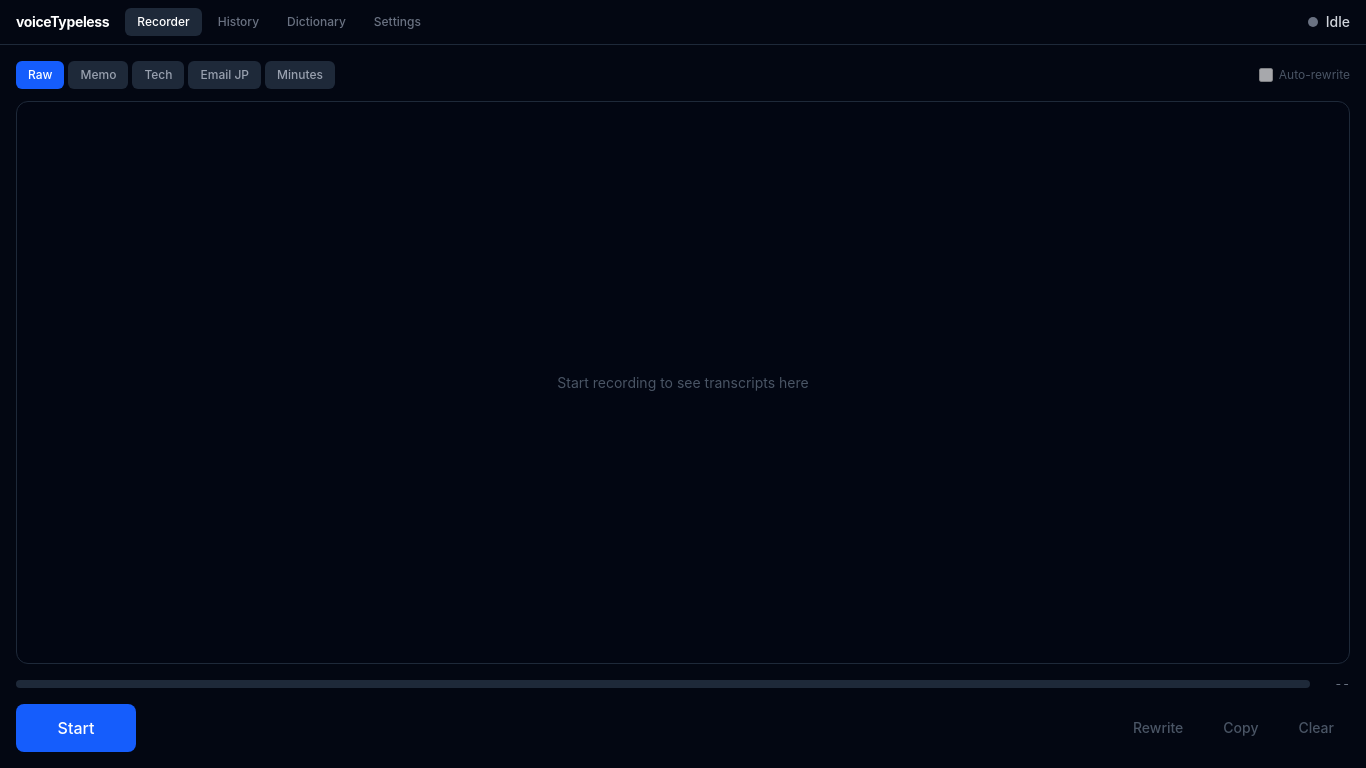
Test: App › navigates to HistoryPage
This screenshot has width=1366, height=768.
Click the button "History". click: [238, 22]
box: [206,8,271,36]
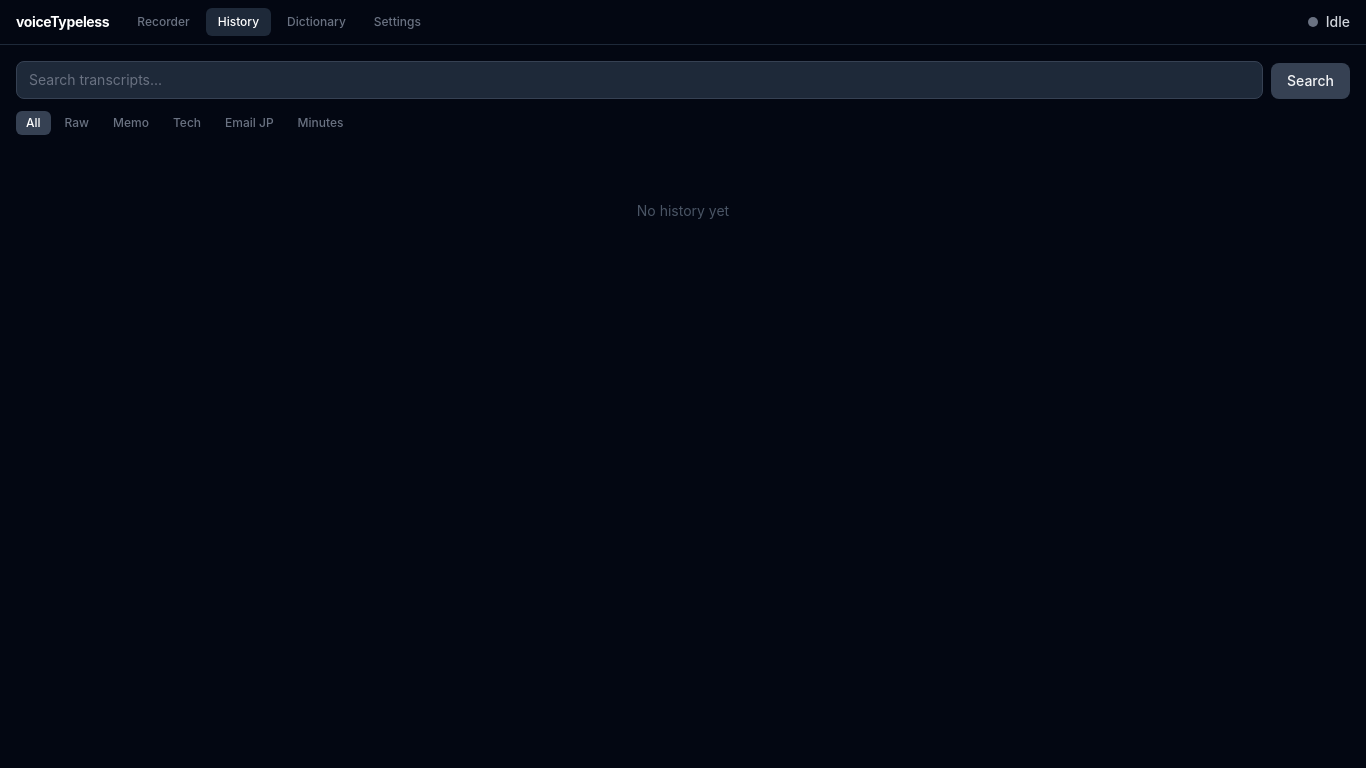
Result: the text "No history yet" is shown at [637,201,729,221]
